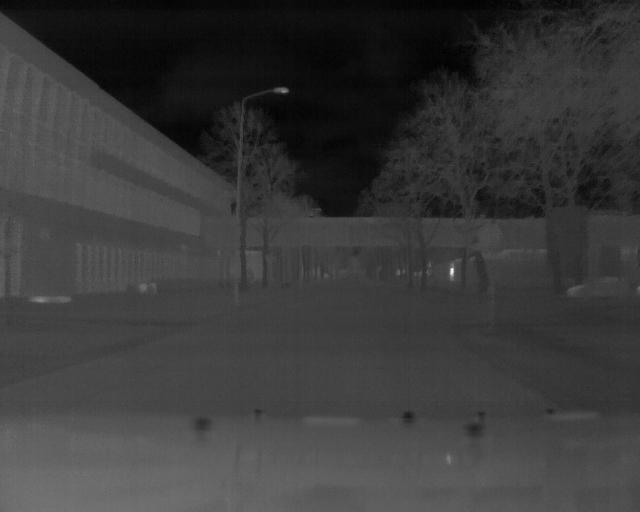car: (566, 273, 626, 301)
